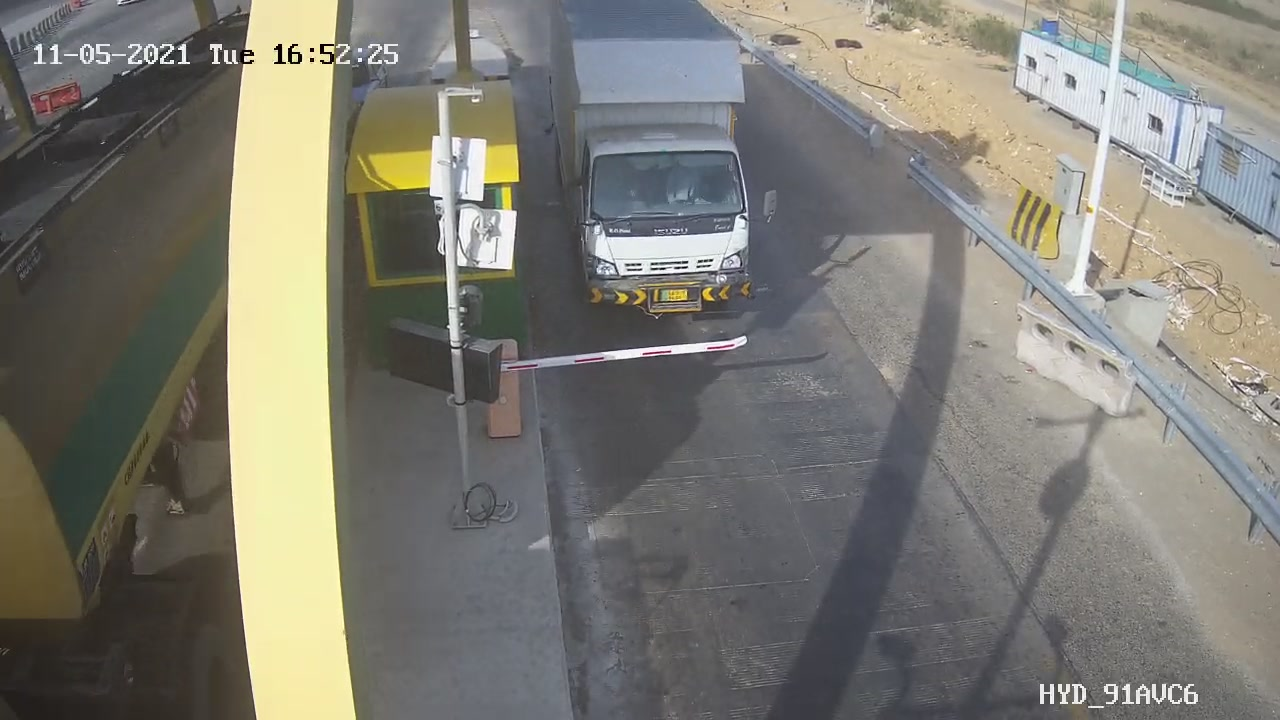F5: (525, 5, 800, 343)
